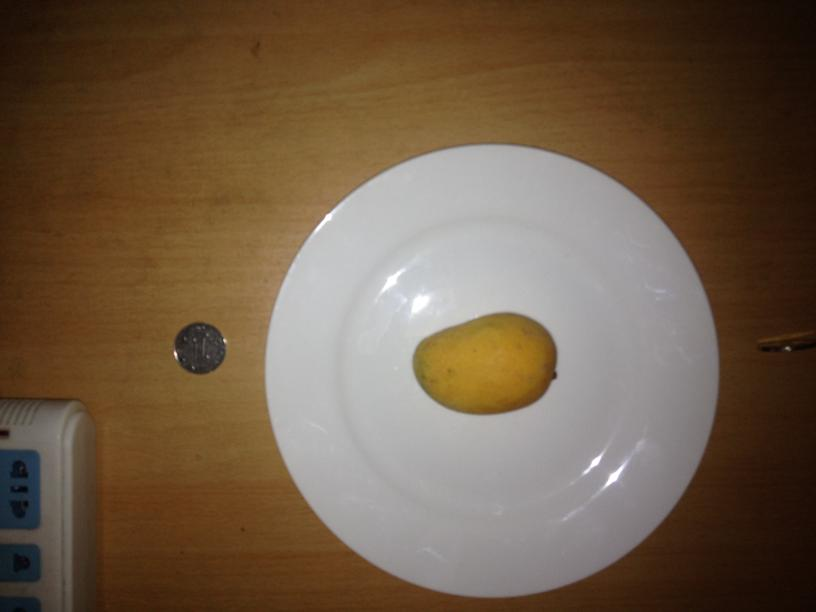coin: (171, 322, 226, 375)
mango: (409, 311, 559, 414)
